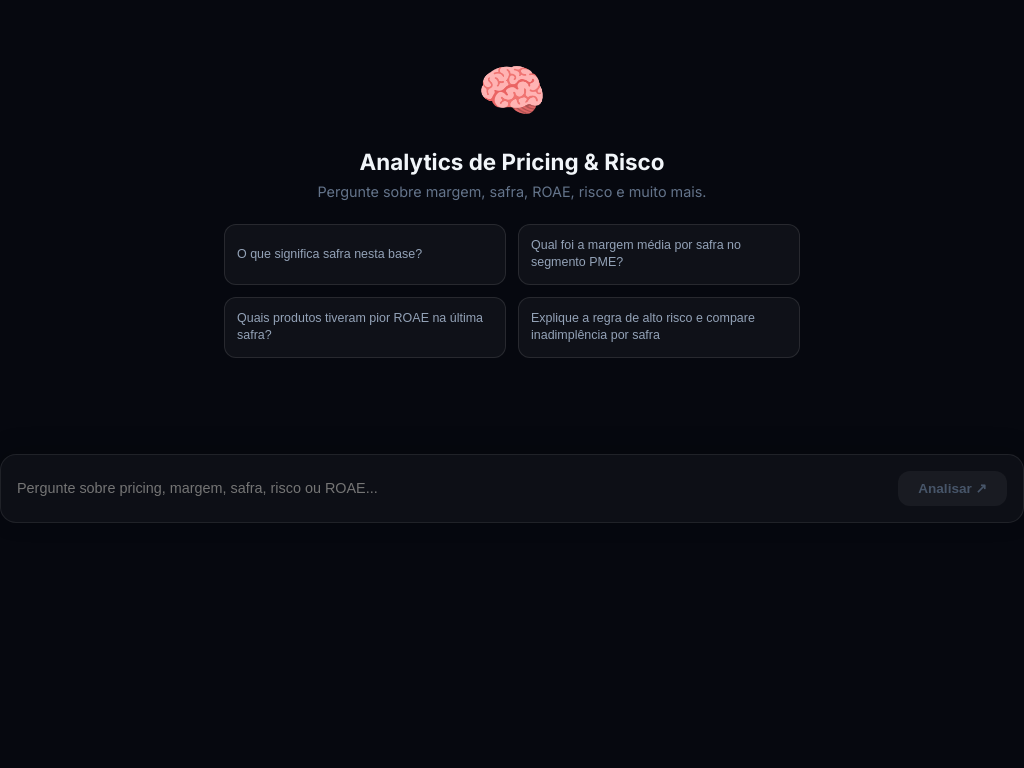
Test: ChatPanel › Interação do usuário › exibe a pergunta do usuário após envio
The width and height of the screenshot is (1024, 768).
In the field: point(452, 488) [17,471,886,506], type "Qual foi a margem por safra?"
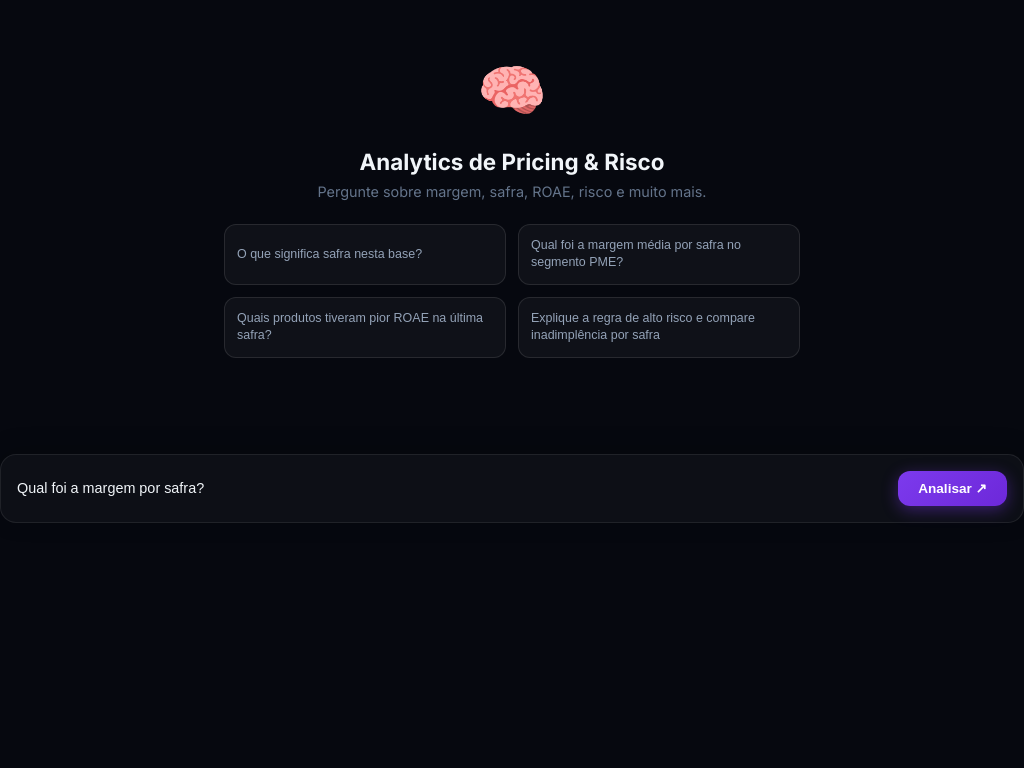
Click the button "Analisar ↗": point(953, 488) [898,471,1007,506]
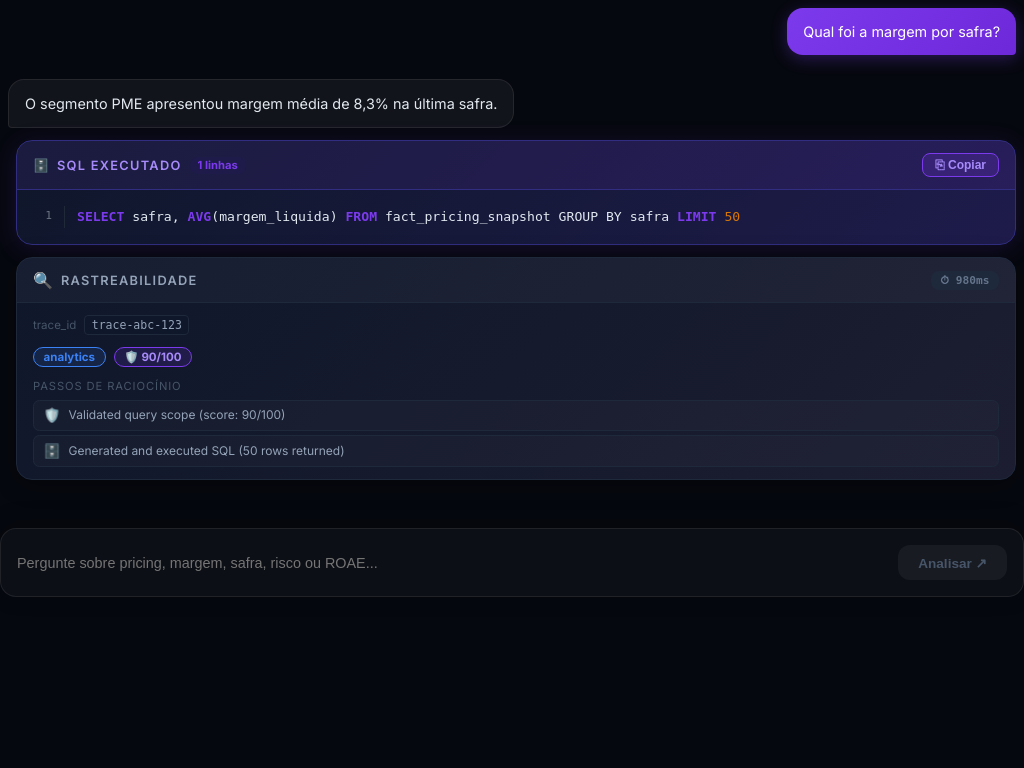
Check: the text "Qual foi a margem por safra?" is shown, box [787,8,1016,55]
